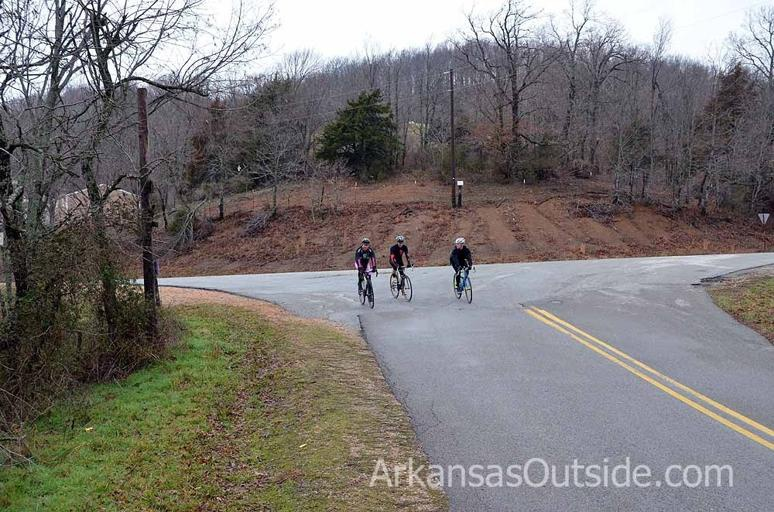non-vehicle: (451, 266, 477, 305), (355, 268, 379, 309), (388, 264, 413, 302)
